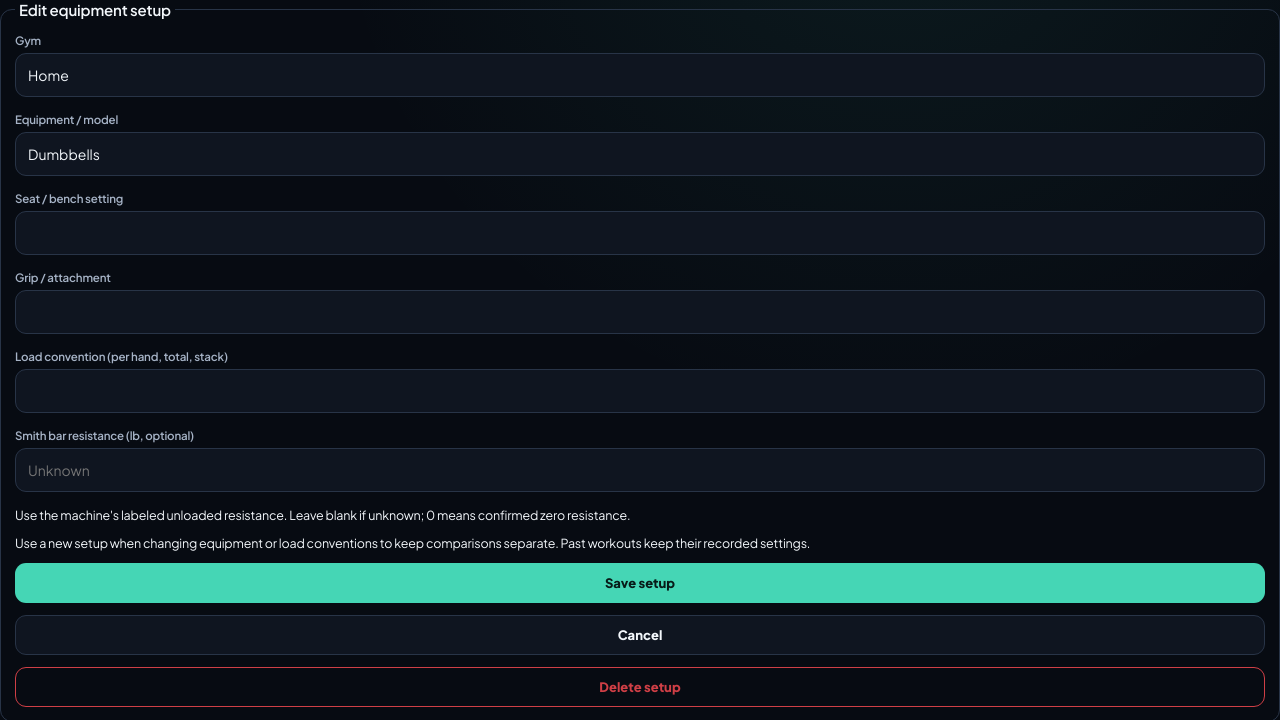
Test: deleting equipment setups › retains the editor and reports a failed deletion for retry
Click the button "Delete setup".
click(640, 687)  # box [15, 667, 1265, 707]
(page scrolled)
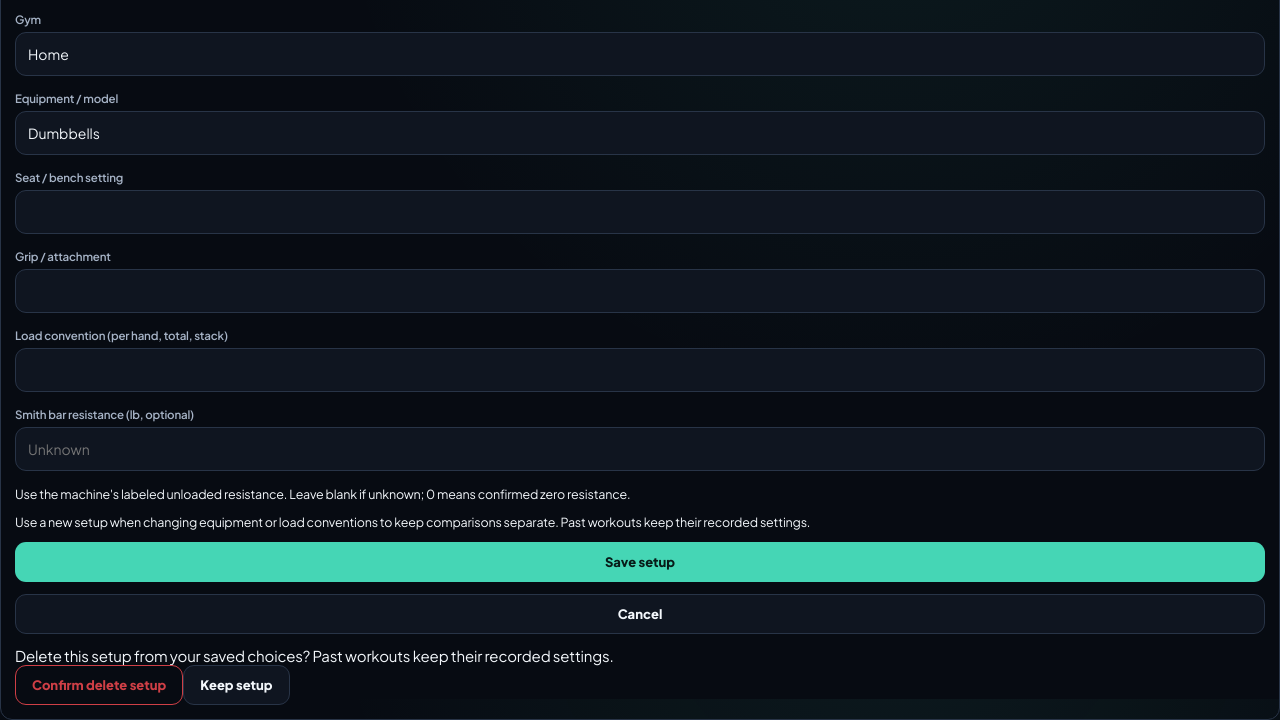
Click the button "Confirm delete setup".
click(99, 685)  # box [15, 665, 183, 705]
(page scrolled)
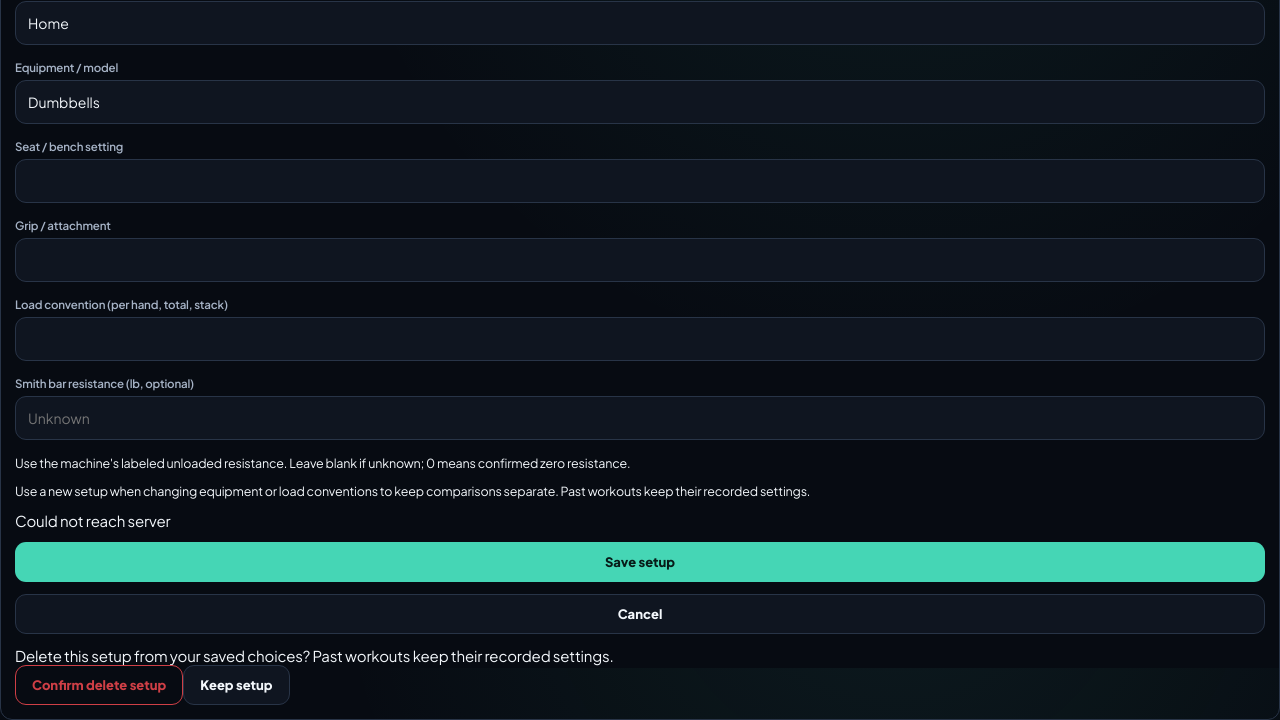
Expected: the field labelled "Equipment / model" holds "Dumbbells", [15, 80, 1265, 124]
Expected: the button "Confirm delete setup" is enabled, [15, 665, 183, 705]
Expected: the message reads "Could not reach server", [15, 511, 170, 530]
